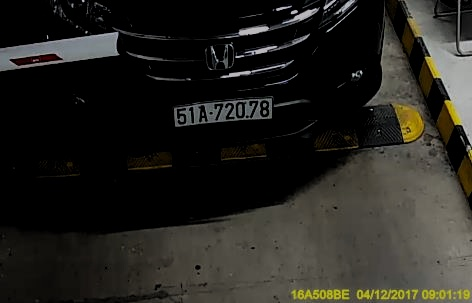plate: (170, 96, 270, 127)
